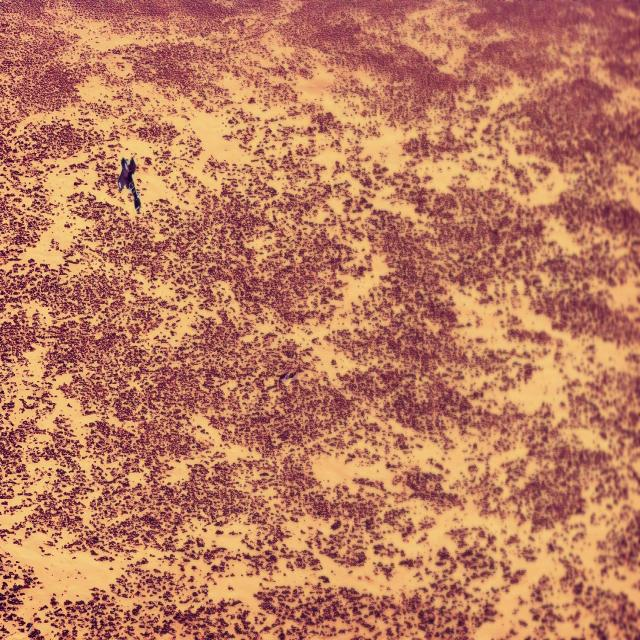airplane: (117, 156, 141, 213)
